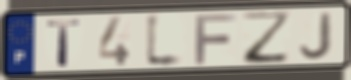4: (97, 15, 132, 69)
F: (193, 12, 239, 66)
J: (298, 11, 335, 61)
L: (143, 10, 187, 70)
T: (44, 18, 84, 69)
Z: (240, 10, 293, 66)
